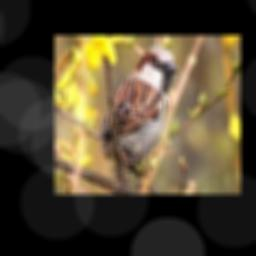Sparrow: (100, 46, 178, 177)
